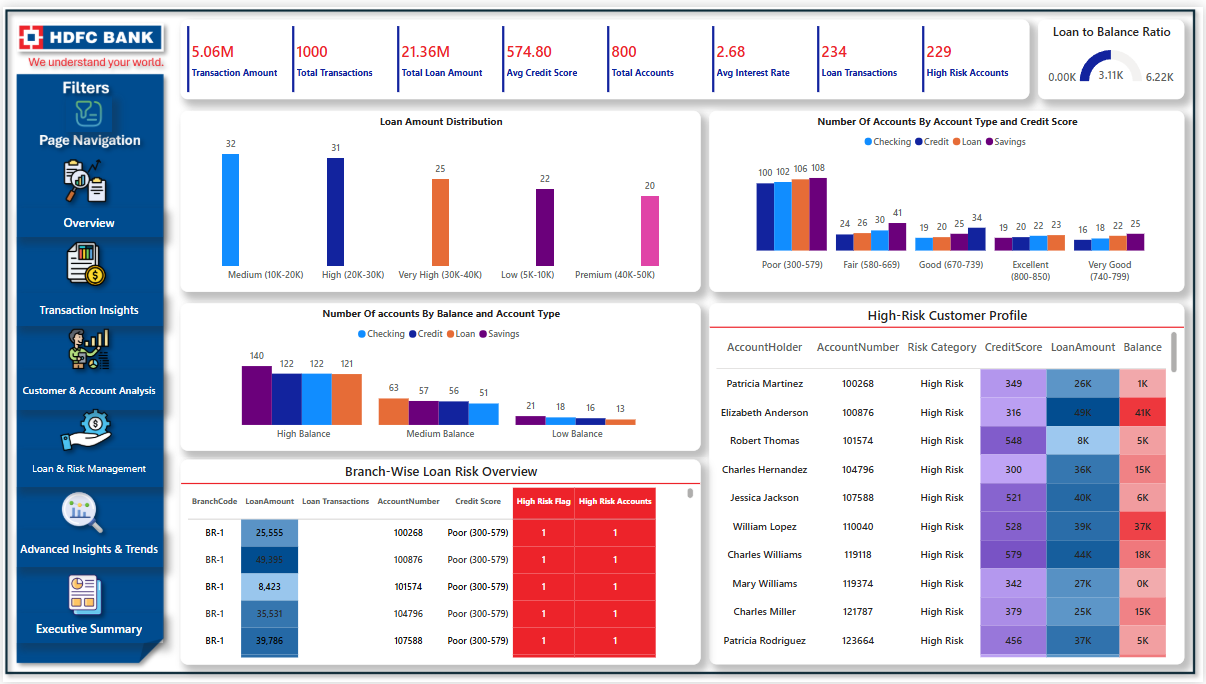

This screenshot's page, from the dashboard's own definition file:
{"tool":"powerbi","page":{"name":"Loan & Risk Management","canvas":[1600,900],"ordinal":4},"visuals":[{"type":"cardVisual","fields":{"Data":["All Measures.Total Transaction Amount","All Measures.Total Transactions","All Measures.Total Loan Amount","All Measures.Average Credit Score","All Measures.Total Accounts","All Measures.Average Interest Rate","All Measures2.Loan Transactions","All Measures2.High Risk Accounts"]},"box":[236.7,16.7,1131.7,106.7],"z":0},{"type":"clusteredColumnChart","title":"Loan Amount  Distribution","fields":{"Category":["customer_account_details.Loan_Amount_Category"],"Y":["All Measures.Loan Account Count"],"Series":["customer_account_details.Loan_Amount_Category"]},"box":[236.7,138.3,693.3,241.7],"z":1000},{"type":"gauge","title":"Loan to Balance Ratio","fields":{"Y":["Sum(customer_account_details.Loan to Balance Ratio)"]},"box":[1380,16.7,195,106.7],"z":2000},{"type":"clusteredColumnChart","title":"Number Of accounts  By Balance and Account Type","fields":{"Category":["customer_account_details.BalanceCategory"],"Y":["CountNonNull(customer_account_details.AccountNumber)"],"Series":["customer_account_details.AccountType"]},"box":[236.7,395,693.3,196.7],"z":3000},{"type":"clusteredColumnChart","title":"Number Of Accounts By  Account Type and  Credit Score","fields":{"Y":["CountNonNull(customer_account_details.AccountNumber)"],"Series":["customer_account_details.AccountType"],"Category":["customer_account_details.Credit Score Category"]},"box":[941.7,138.3,633.3,241.7],"z":4000},{"type":"tableEx","title":"High-Risk Customer Profile","fields":{"Values":["customer_account_details.AccountHolder","customer_account_details.AccountNumber","customer_account_details.Risk Category","customer_account_details.CreditScore","customer_account_details.LoanAmount","customer_account_details.Balance"]},"box":[941.7,395,633.3,481.7],"z":5000},{"type":"tableEx","title":"Branch-Wise Loan Risk Overview","fields":{"Values":["banking_transactions.BranchCode","customer_account_details.LoanAmount","All Measures2.Loan Transactions","customer_account_details.AccountNumber","customer_account_details.Credit Score Category","customer_account_details.High Risk Flag","All Measures2.High Risk Accounts"]},"box":[236.7,603.3,693.3,273.3],"z":6000},{"type":"pageNavigator","box":[16.7,268.3,196.7,38.3],"z":7000},{"type":"pageNavigator","box":[16.7,381.7,196.7,43.3],"z":8000},{"type":"pageNavigator","box":[16.7,483.3,196.7,53.3],"z":9000},{"type":"pageNavigator","box":[16.7,590,196.7,50],"z":10000},{"type":"pageNavigator","box":[16.7,696.7,196.7,50],"z":11000},{"type":"pageNavigator","box":[16.7,808.3,196.7,40],"z":12000},{"type":"image","title":"Filter Button","box":[83.3,118.3,61.7,48.3],"z":13501}]}

Visuals, with their boxes in screenshot pixels (x1, y1, x2, y2), scaled from the page's 1600x900 canvas onto the 1206x684 screenshot:
cardVisual - All Measures.Total Transaction Amount x All Measures.Total Transactions: 178:13:1031:94
"Loan Amount  Distribution" clusteredColumnChart: 178:105:701:289
"Loan to Balance Ratio" gauge: 1040:13:1187:94
"Number Of accounts  By Balance and Account Type" clusteredColumnChart: 178:300:701:450
"Number Of Accounts By  Account Type and  Credit Score" clusteredColumnChart: 710:105:1187:289
"High-Risk Customer Profile" tableEx: 710:300:1187:666
"Branch-Wise Loan Risk Overview" tableEx: 178:459:701:666
pageNavigator: 13:204:161:233
pageNavigator: 13:290:161:323
pageNavigator: 13:367:161:408
pageNavigator: 13:448:161:486
pageNavigator: 13:529:161:567
pageNavigator: 13:614:161:645
"Filter Button" image: 63:90:109:127
